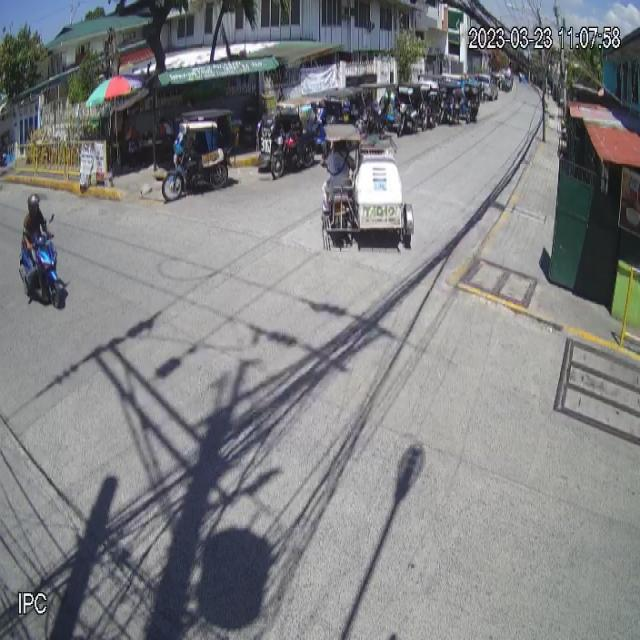Motorcycle: (19, 213, 60, 309)
Tricycle: (321, 122, 414, 250), (162, 115, 232, 204)
